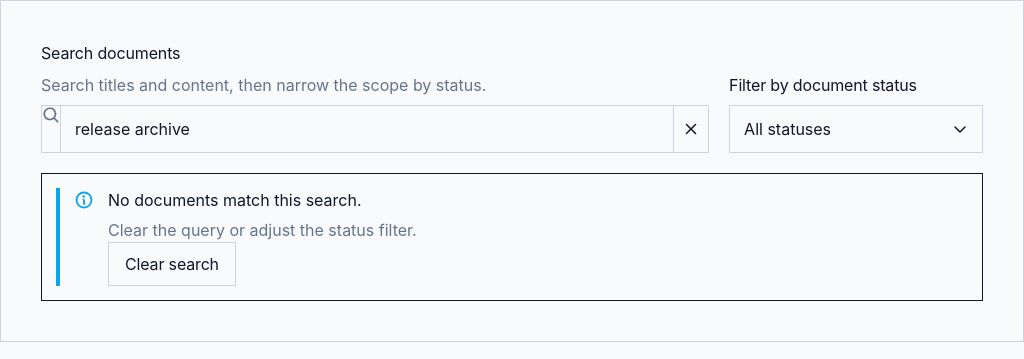
design-system Recipe previews › keeps the empty search query and offers a working next action
The width and height of the screenshot is (1024, 359).
Expected: the search field labelled "Search documents" holds "release archive", [61, 106, 673, 152]
Expected: the heading "No documents match this search." is shown, [108, 190, 362, 210]
Click the button "Clear search".
click(172, 264)  # box [108, 242, 236, 286]
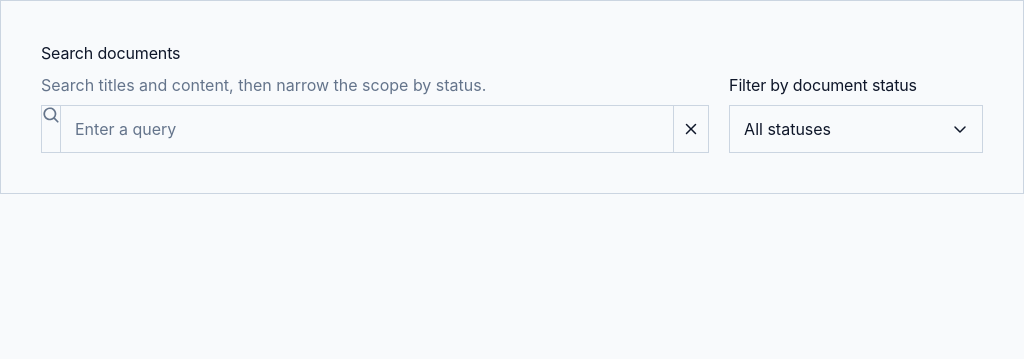
Expected: the search field labelled "Search documents" is empty, [61, 106, 673, 152]
Expected: the heading "No documents match this search." is gone
